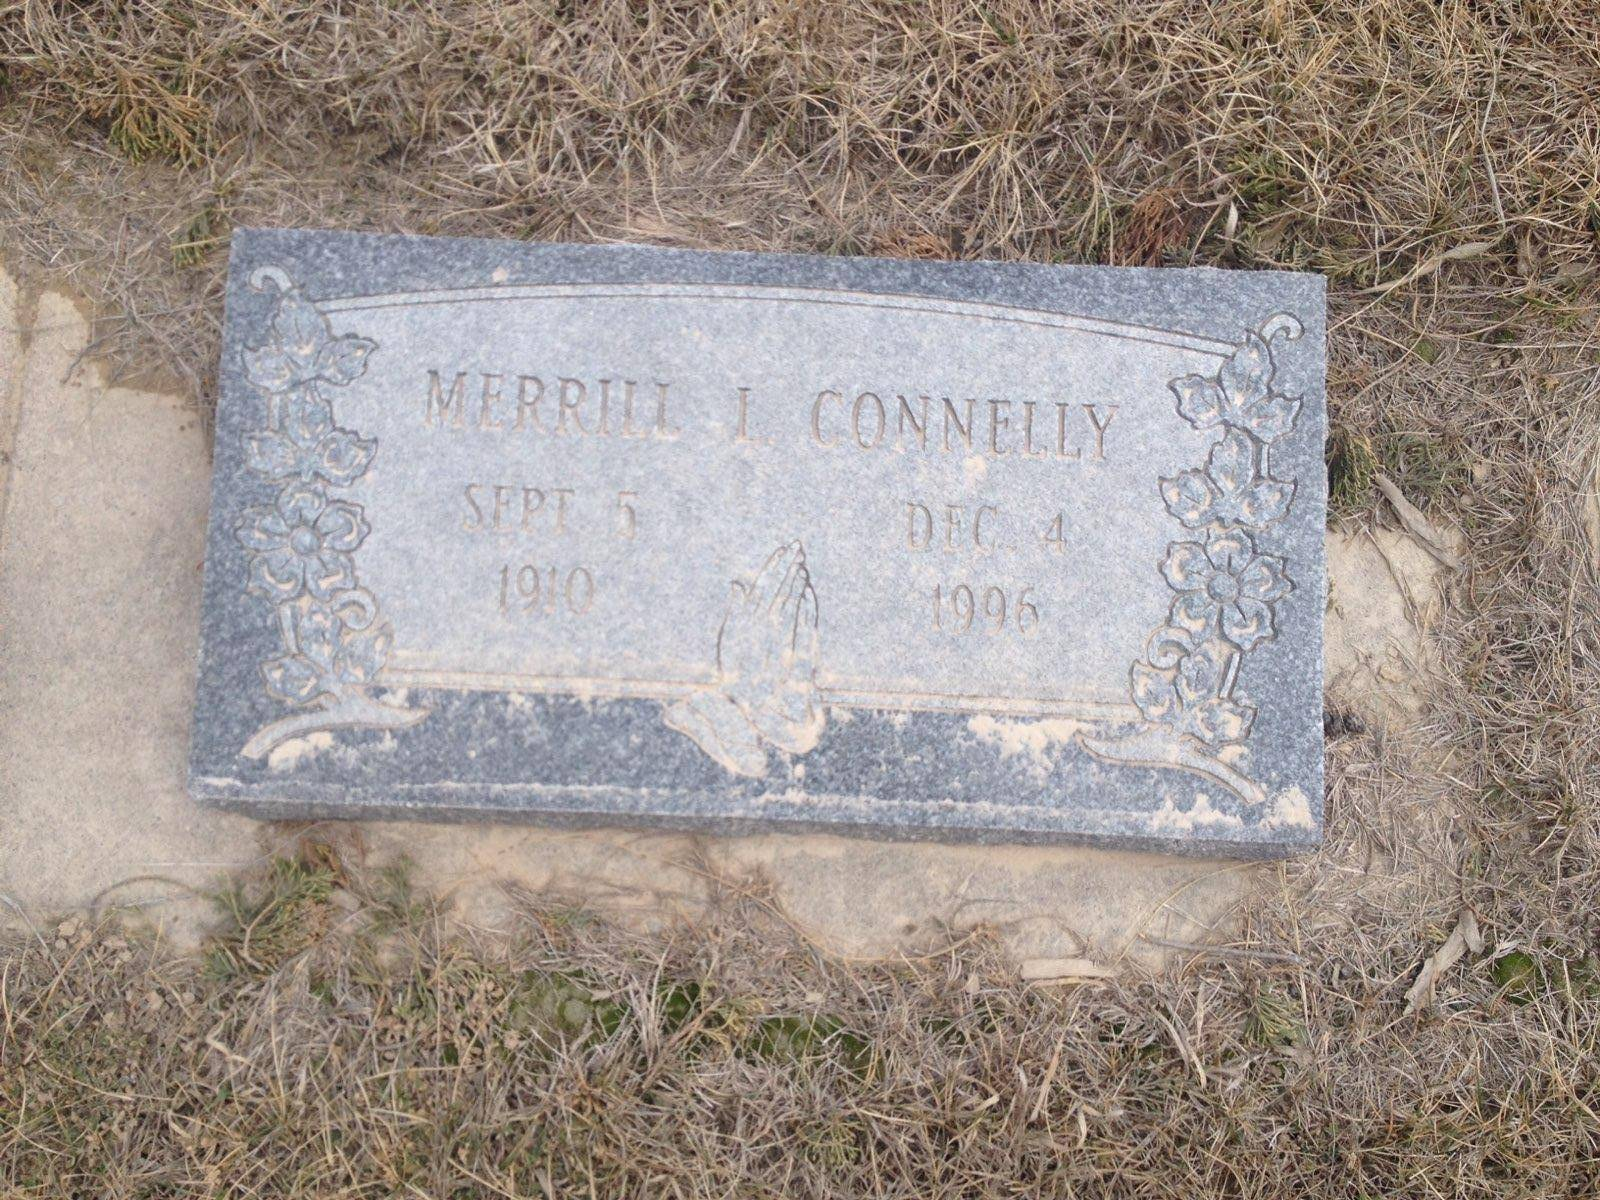flat: (168, 182, 1359, 899)
